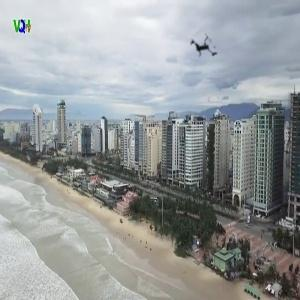drone: (177, 19, 234, 76)
